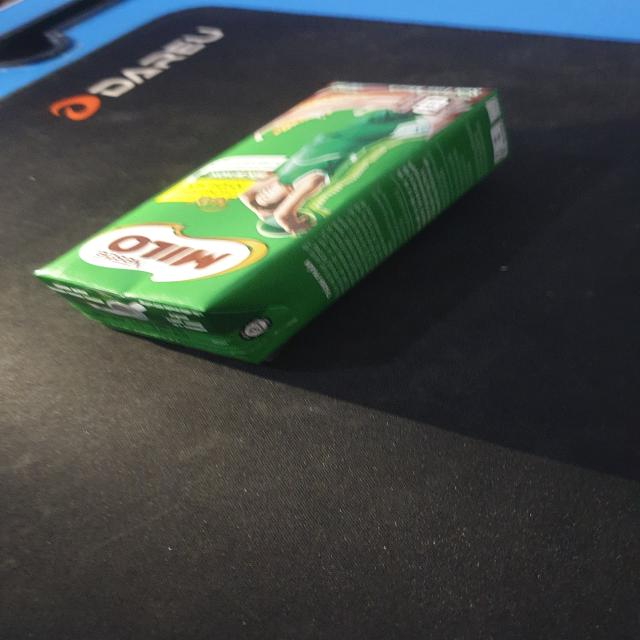Milo: (30, 80, 518, 373)
